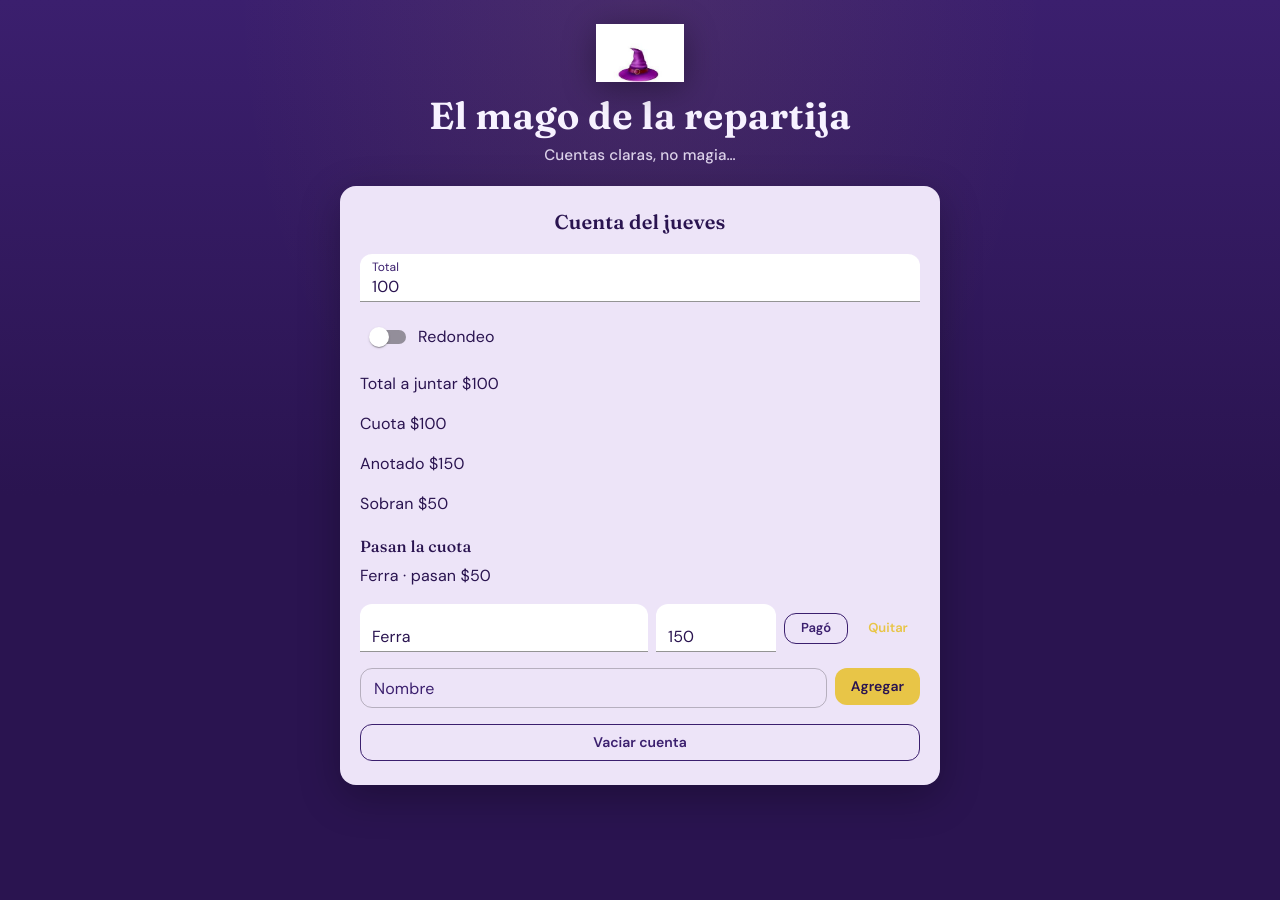
Test: Cuenta del jueves › debería mostrar quien pasa la cuota cuando el monto guardado quedó alto
The image size is (1280, 900).
Expected: the heading "Pasan la cuota" is shown, 360,536 -> 472,556
Expected: the text "Ferra · pasan $50" is shown, 360,566 -> 491,586
Replace the text in the field named "Monto de Ferra" with "200": (716, 628) 656,604 -> 776,652
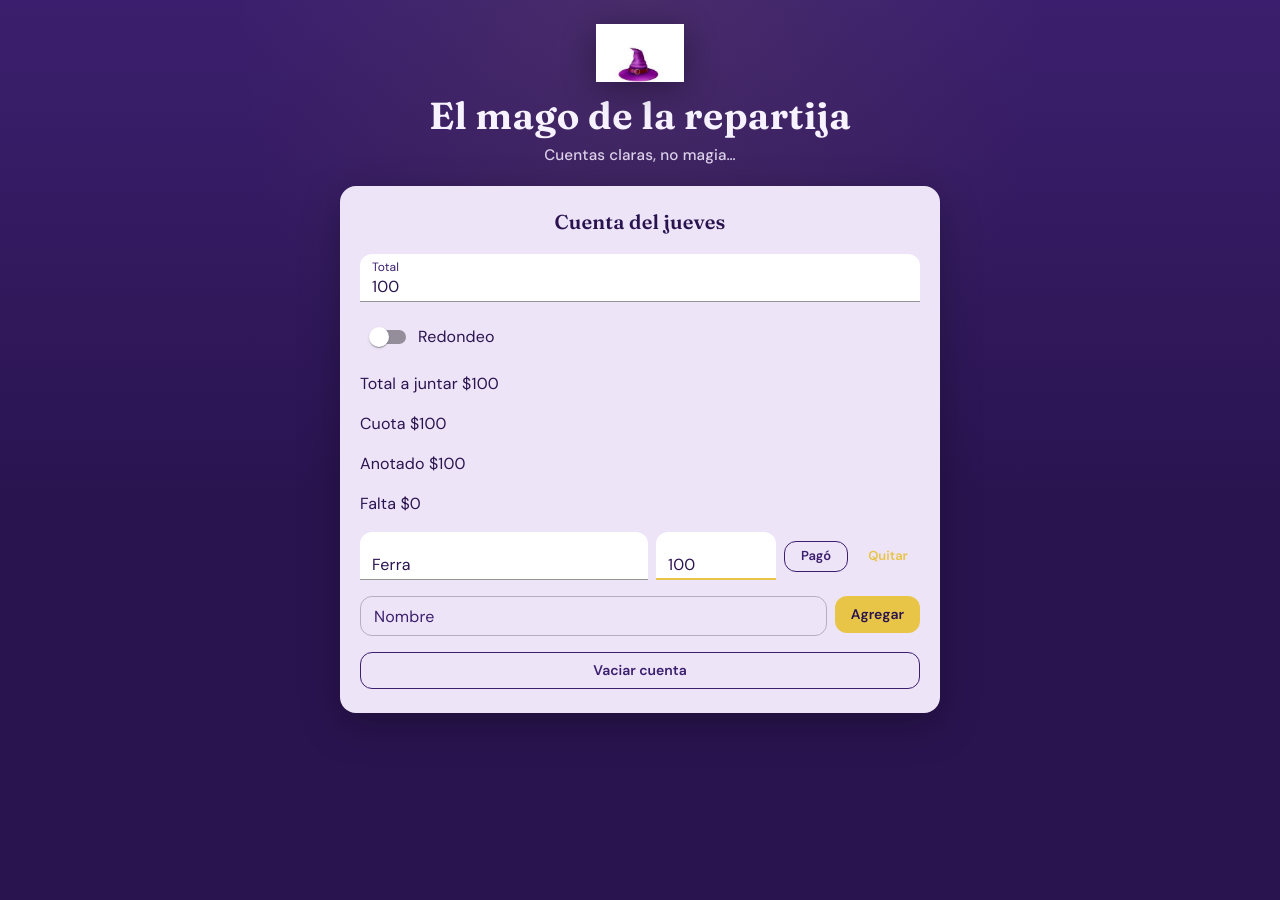
Expected: the field named "Monto de Ferra" holds "100", 656,532 -> 776,580
